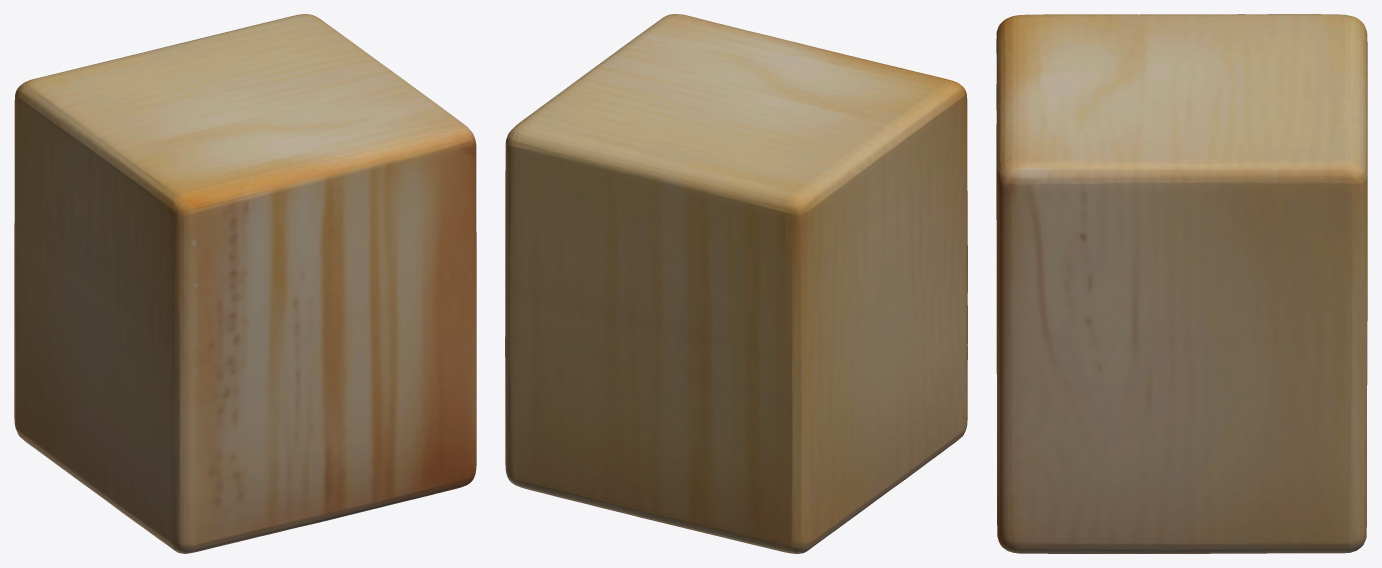
File: wooden_block.glb
3 views of the same model, side by side, from view 1: azimuth 30°, elevation 25°; view 2: azimuth 150°, elevation 25°; view 3: azimuth 270°, elevation 25° (orthographic). The views are drawn at different scales.
Parts seen in each view (by area): view 1: wooden_block.obj; view 2: wooden_block.obj; view 3: wooden_block.obj.
Part boxes in pixels (<box>): wooden_block.obj: <box>14,14,476,553</box>; wooden_block.obj: <box>505,14,967,553</box>; wooden_block.obj: <box>996,14,1367,553</box>.
Bounding box in the file's own units: 0.1013 × 0.115 × 0.0989.
1 material, 1 textured.
